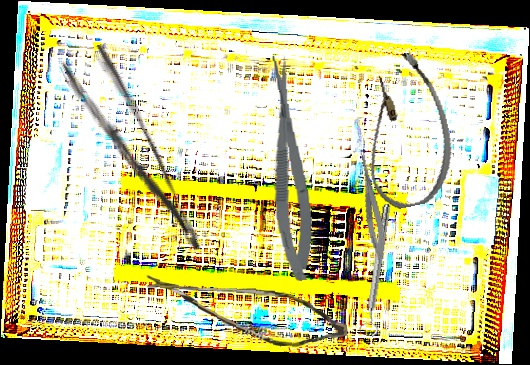Cannula: (347, 47, 463, 214)
Dressing Forceps: (58, 41, 206, 270)
Fixation Ring: (357, 202, 398, 338)
Micro Scissor: (141, 274, 350, 350), (264, 53, 318, 283), (352, 147, 390, 261)
